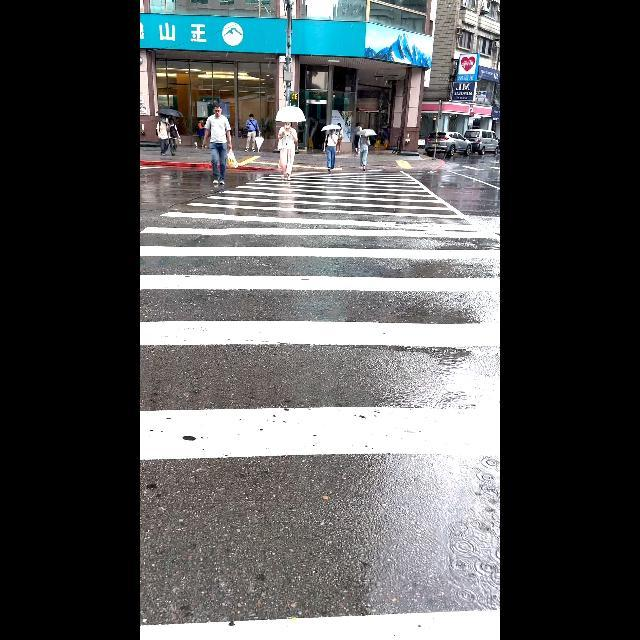sidewalk: (140, 168, 500, 461)
